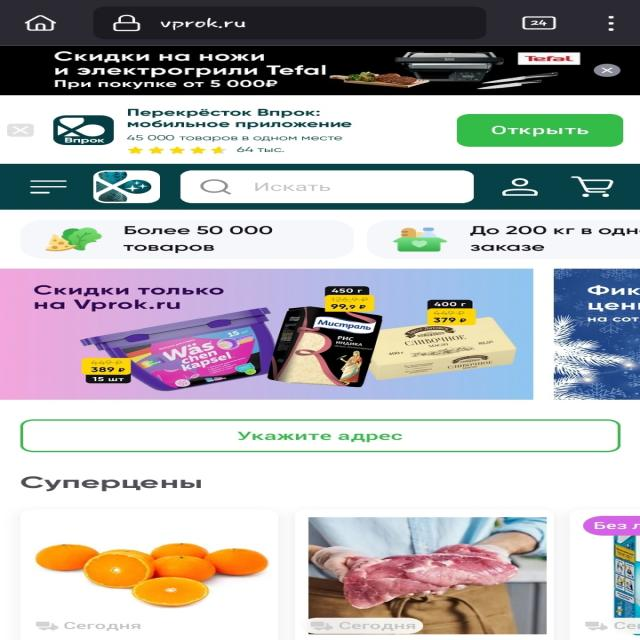button: (459, 113, 622, 146), (5, 121, 34, 138), (597, 63, 617, 77)
site: (0, 96, 640, 163), (0, 44, 640, 94)
